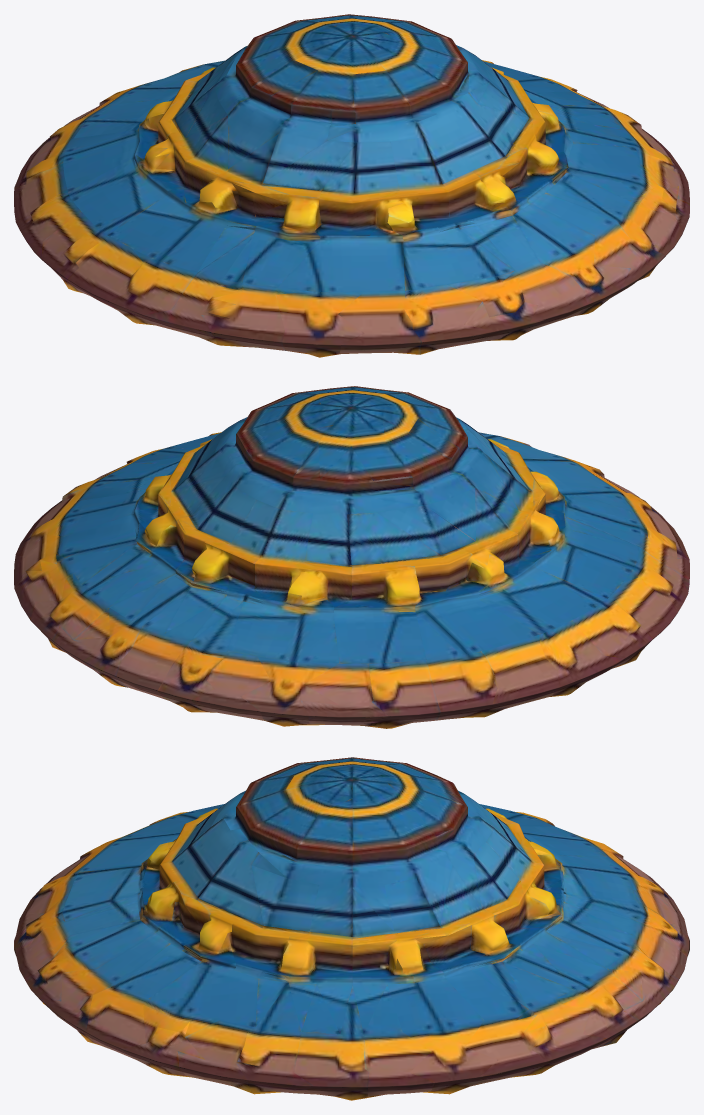
The model's file is nave-nodriza.glb.
3 views of the same model, one above another, from view 1: azimuth 30°, elevation 25°; view 2: azimuth 150°, elevation 25°; view 3: azimuth 270°, elevation 25° (orthographic).
Bounding box in the file's own units: 1.91 × 0.8376 × 1.91.
Materials: 1 (1 with a texture image).
